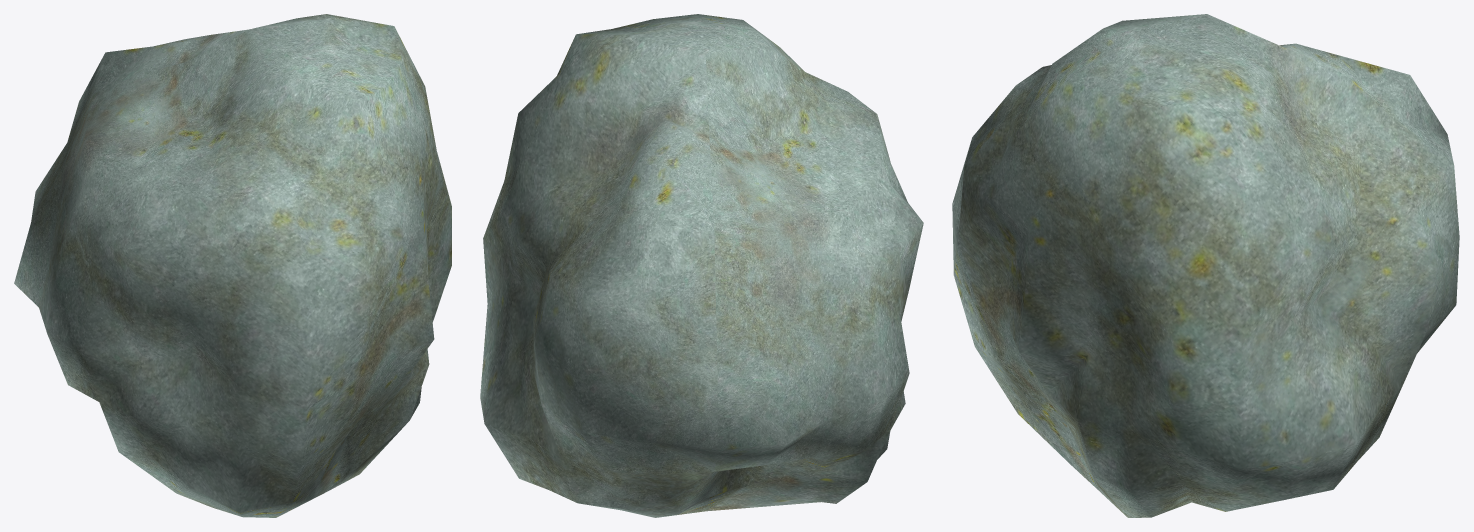
The model's file is Stone_Pack1_Stone_1.obj.
3 views of the same model, side by side, from view 1: azimuth 30°, elevation 25°; view 2: azimuth 150°, elevation 25°; view 3: azimuth 270°, elevation 25° (orthographic). The views are drawn at different scales.
Parts seen in each view (by area): view 1: default; view 2: default; view 3: default.
Part boxes in pixels (x1,y1,x2,y2): default: [14, 14, 451, 517]; default: [480, 14, 923, 517]; default: [952, 14, 1459, 517].
Bounding box in the file's own units: 141 × 155 × 152.
1 material, 1 textured.
